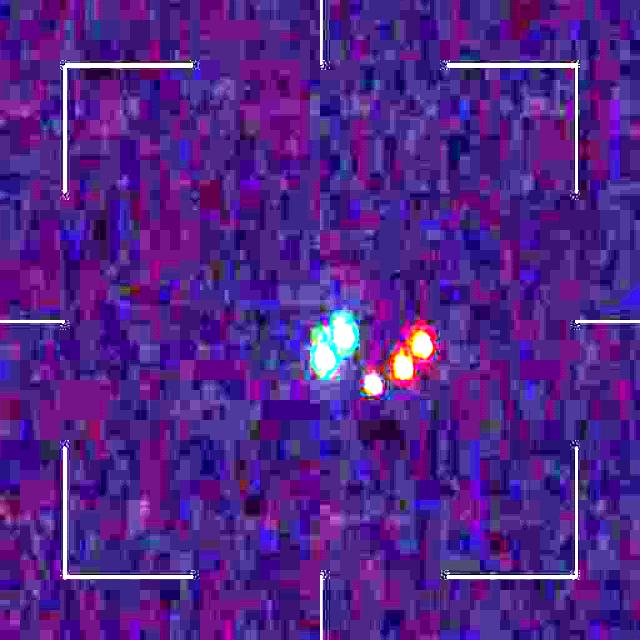bird: (312, 318, 438, 398)
